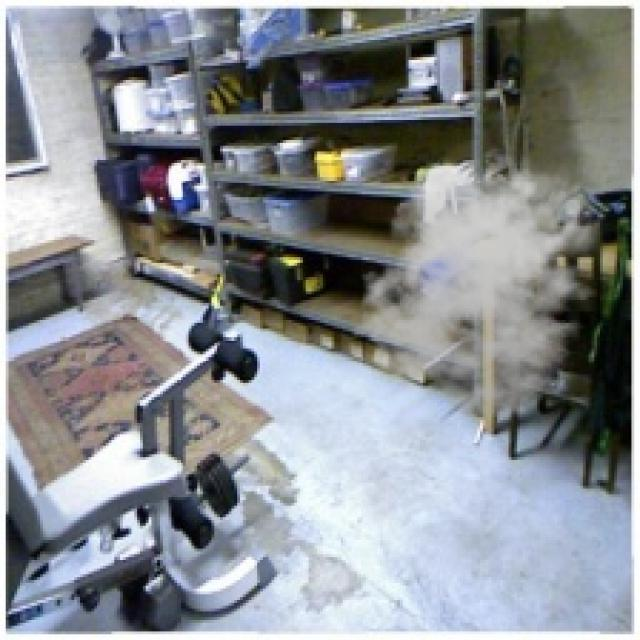Smoke: (352, 151, 614, 420)
